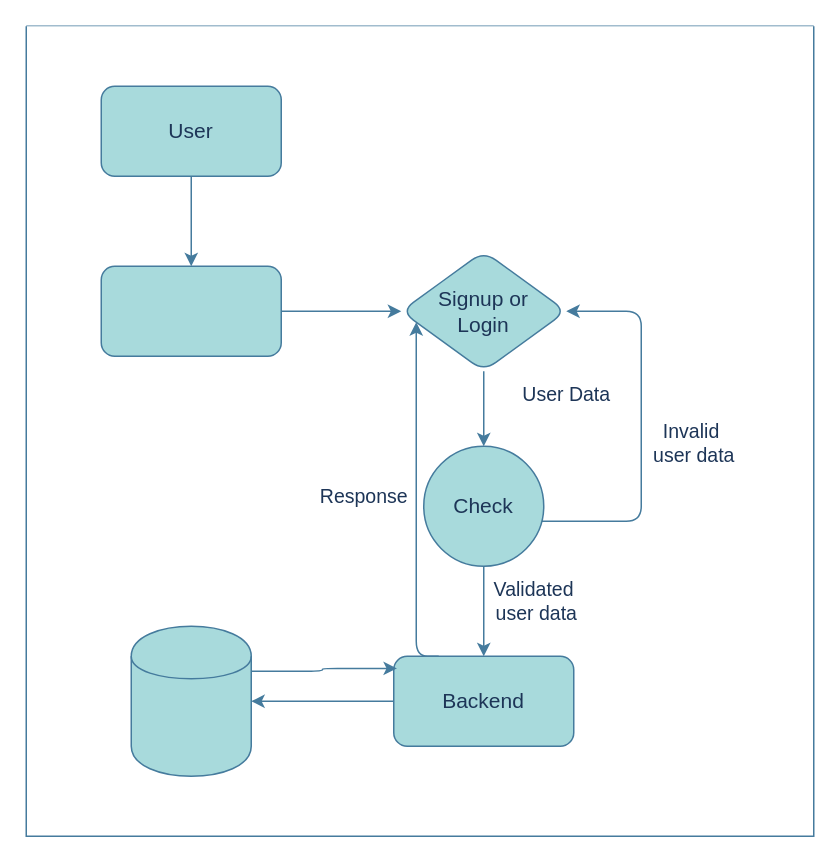
Some shapes in this 840 by 863 pixel diagram are drawn without their labels. Here are the shapes that lost their labels. From the top down, the box of each, then its label:
(100, 265, 281, 356): Homepage
(130, 625, 251, 776): Database
